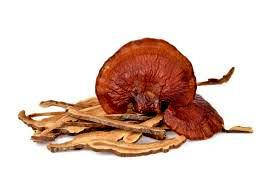Ganoderma - Fruit Body: (18, 34, 254, 159)
